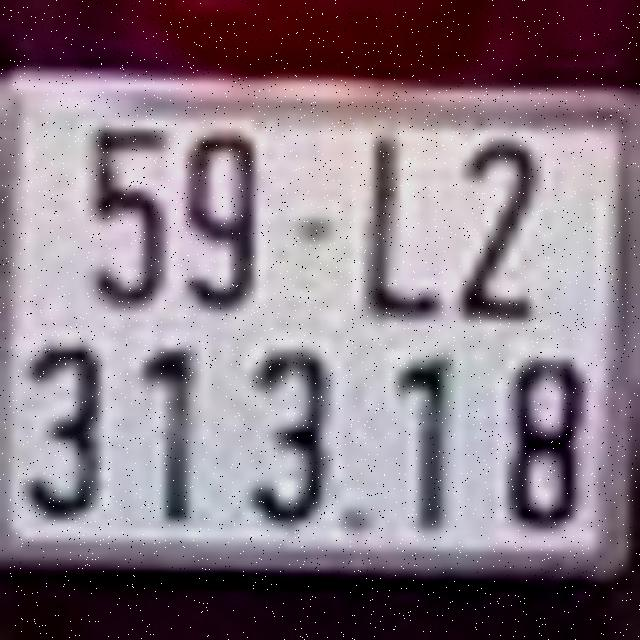1: (139, 341, 197, 523), (398, 354, 450, 531)
2: (462, 136, 536, 322)
3: (22, 340, 104, 522), (251, 343, 327, 527)
5: (88, 122, 171, 308)
8: (511, 356, 581, 530)
9: (183, 126, 259, 311)
L: (362, 128, 445, 318)
